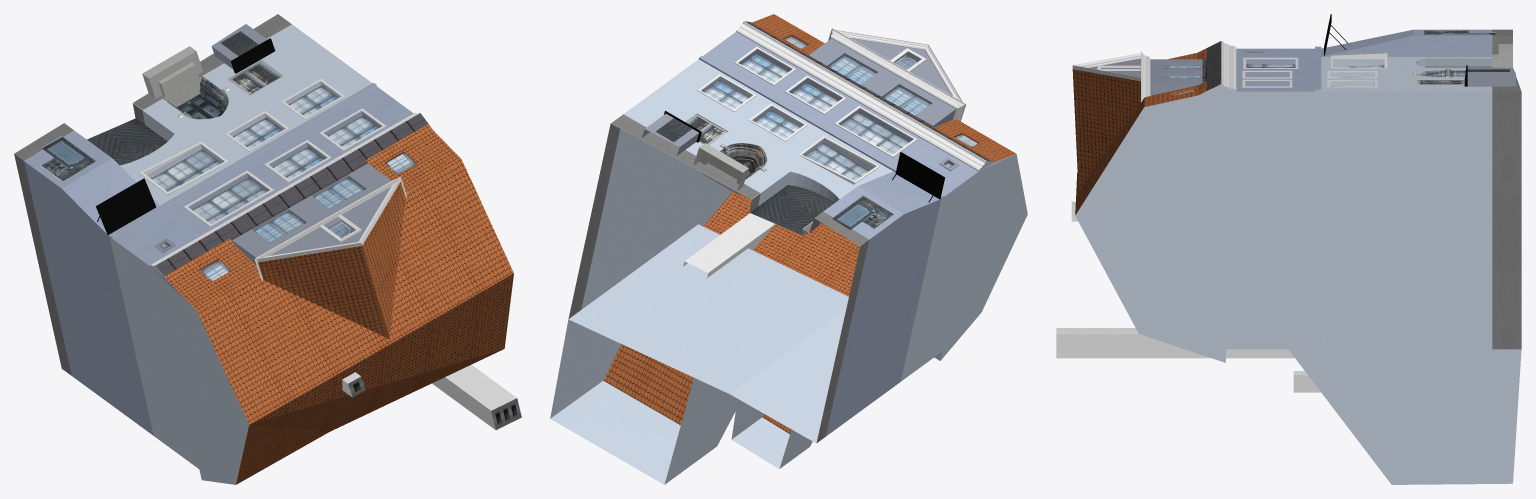
File: Dunkri_9.obj
The picture shows the model from 3 angles, left to right: view 1: azimuth 30°, elevation 25°; view 2: azimuth 150°, elevation 25°; view 3: azimuth 270°, elevation 25°; orthographic projection. The views are drawn at different scales.
Parts seen in each view (by area): view 1: Dunkri_9; view 2: Dunkri_9; view 3: Dunkri_9.
Boxes of the visible parts, left/top/right/bottom form: Dunkri_9: left=14, top=14, right=521, bottom=484; Dunkri_9: left=550, top=14, right=1027, bottom=484; Dunkri_9: left=1056, top=14, right=1521, bottom=484.
Bounding box in the file's own units: 13.7 × 14.87 × 15.4.
